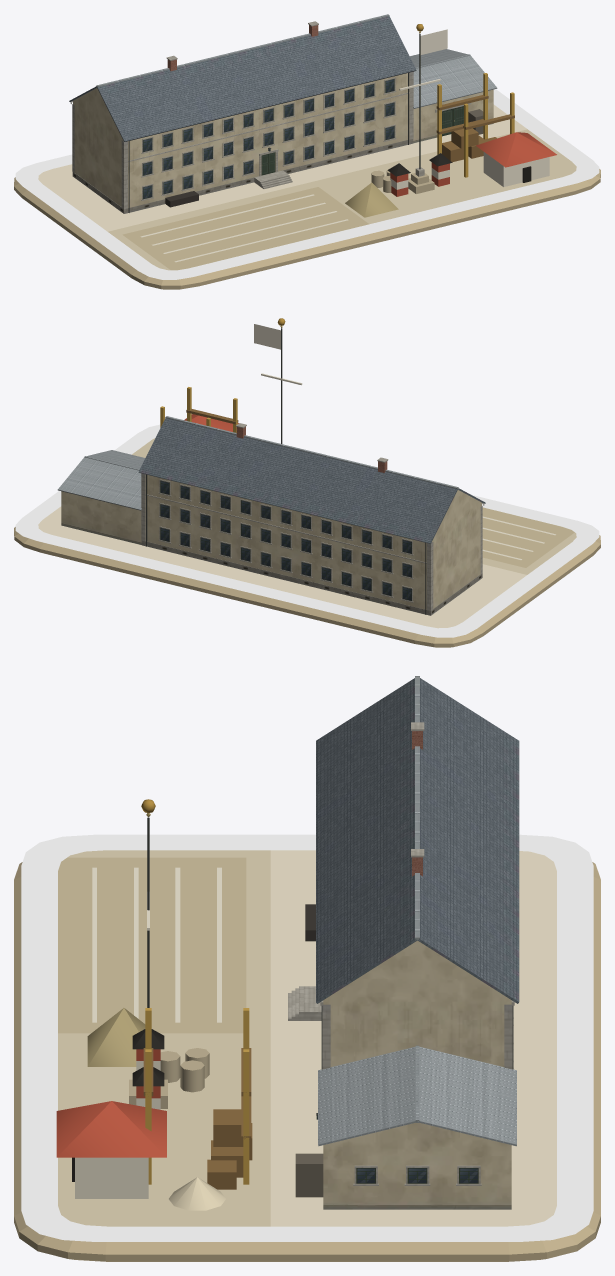
The model's file is barracks-socle.glb.
3 views of the same model, one above another, from view 1: azimuth 30°, elevation 25°; view 2: azimuth 150°, elevation 25°; view 3: azimuth 270°, elevation 25° (orthographic). The views are drawn at different scales.
Visible parts, largest first — view 1: murs, toit, cour, socle, lisere, remise_toit, niveau_3, chantier, signe, remise_murs, niveau_2, niveau_1 (+3 smaller); view 2: murs, toit, socle, lisere, cour, remise_toit, remise_murs, chantier, drapeau; view 3: cour, toit, socle, lisere, remise_toit, remise_murs, murs, niveau_3, niveau_2, chantier, niveau_1, signe (+2 smaller).
Boxes of the visible parts, x1,y1,x2,y2 form: murs: (70, 71, 413, 213); toit: (69, 14, 416, 141); cour: (108, 129, 576, 270); socle: (14, 104, 600, 289); lisere: (15, 89, 599, 279); remise_toit: (410, 49, 497, 108); niveau_3: (476, 132, 556, 186); chantier: (436, 73, 514, 177); signe: (387, 24, 452, 196); remise_murs: (413, 89, 493, 143); niveau_2: (345, 169, 398, 217); niveau_1: (442, 128, 496, 162); murs: (141, 473, 484, 615); toit: (138, 416, 485, 543); socle: (14, 506, 600, 647); lisere: (15, 424, 599, 637); cour: (132, 438, 576, 574); remise_toit: (57, 450, 145, 510); remise_murs: (61, 491, 141, 544); chantier: (160, 387, 238, 432); drapeau: (254, 324, 280, 349); cour: (58, 850, 270, 1226); toit: (316, 676, 519, 1003); socle: (14, 850, 600, 1261); lisere: (21, 834, 593, 1241); remise_toit: (318, 1045, 516, 1146); remise_murs: (316, 1113, 511, 1209); murs: (320, 998, 514, 1069); niveau_3: (56, 1101, 166, 1198); niveau_2: (87, 1008, 209, 1092); chantier: (143, 1008, 251, 1210); niveau_1: (207, 1109, 252, 1189); signe: (129, 799, 167, 1109).
Size of the model in its own units: 80 by 29.4 by 48.
Materials: 13 (9 with a texture image).
